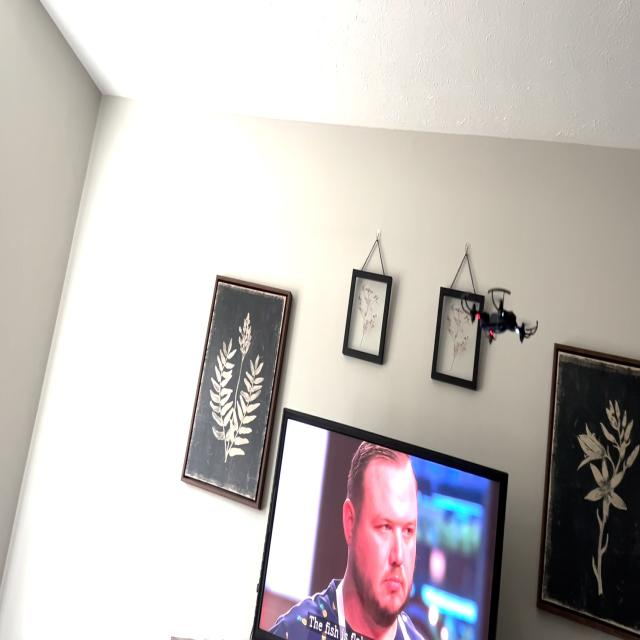drone: (457, 278, 544, 352)
